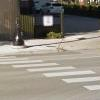Crosswalk: (5, 52, 100, 97)
